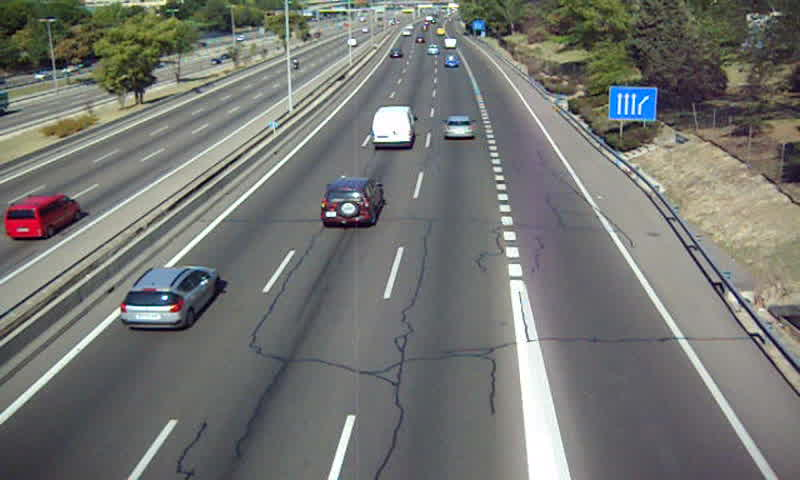car: (119, 265, 219, 330), (320, 178, 383, 229), (443, 117, 476, 141), (444, 53, 460, 68)
van: (372, 106, 416, 150)
